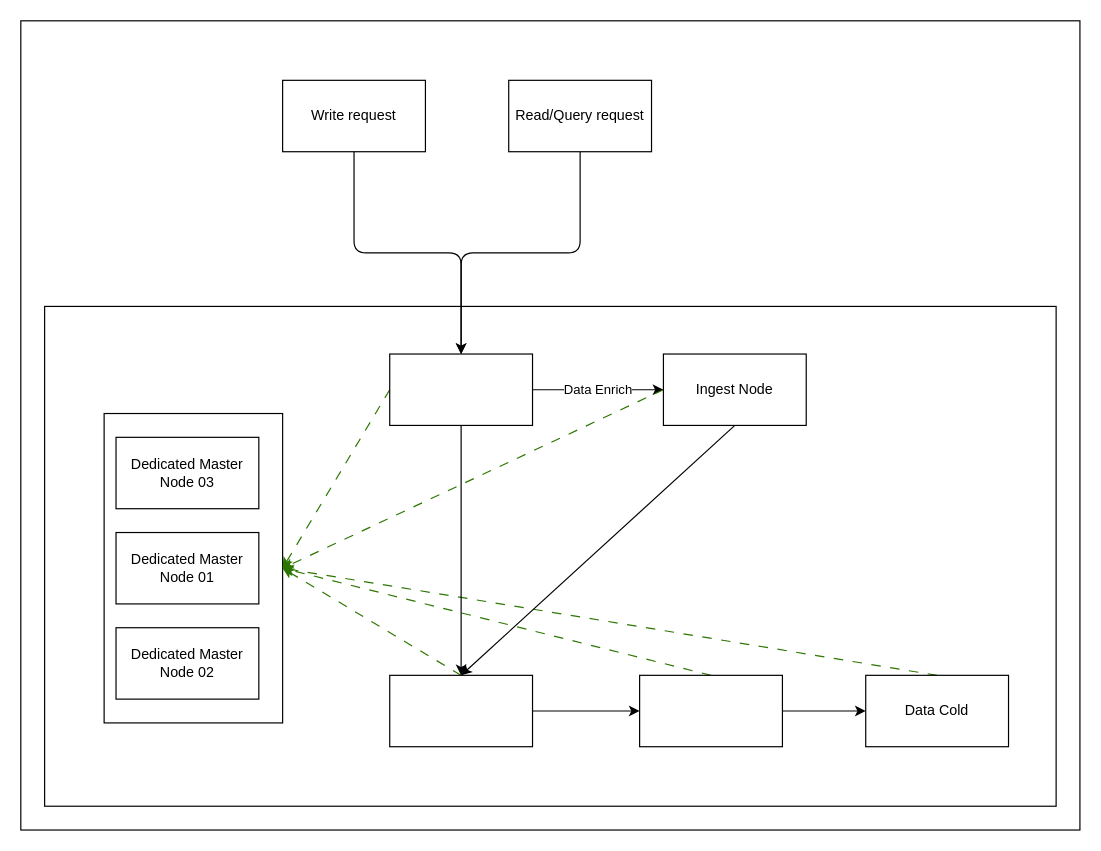
The diagram is 1101 pixels wide and 851 high, and some of its shapes have lost their labels. Here are the shapes that lost their labels. From the top down, the box of each, then its label:
(389, 353, 533, 425): Coordinator Node
(389, 674, 533, 747): Data Hot
(638, 674, 782, 747): Data Warm
